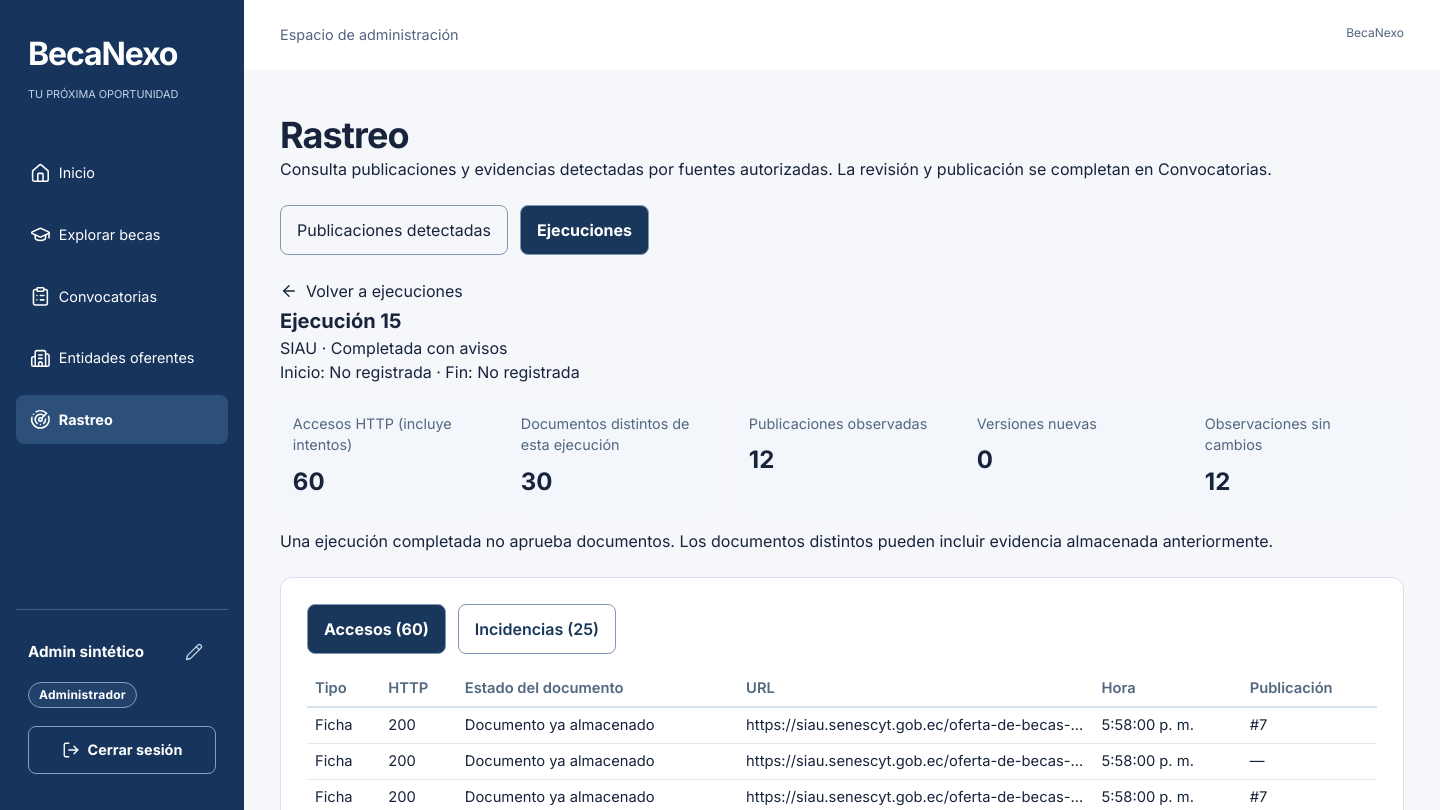
Test: muestra una sola lista a la vez con pestañas y contadores
The width and height of the screenshot is (1440, 810).
Expected: the field labelled "Gravedad" is not shown
What coordinates should you click on to do the following:
click the tab "Incidencias (25)"
I would click on:
 (537, 629)
Its box is left=458, top=604, right=616, bottom=654.
(page scrolled)
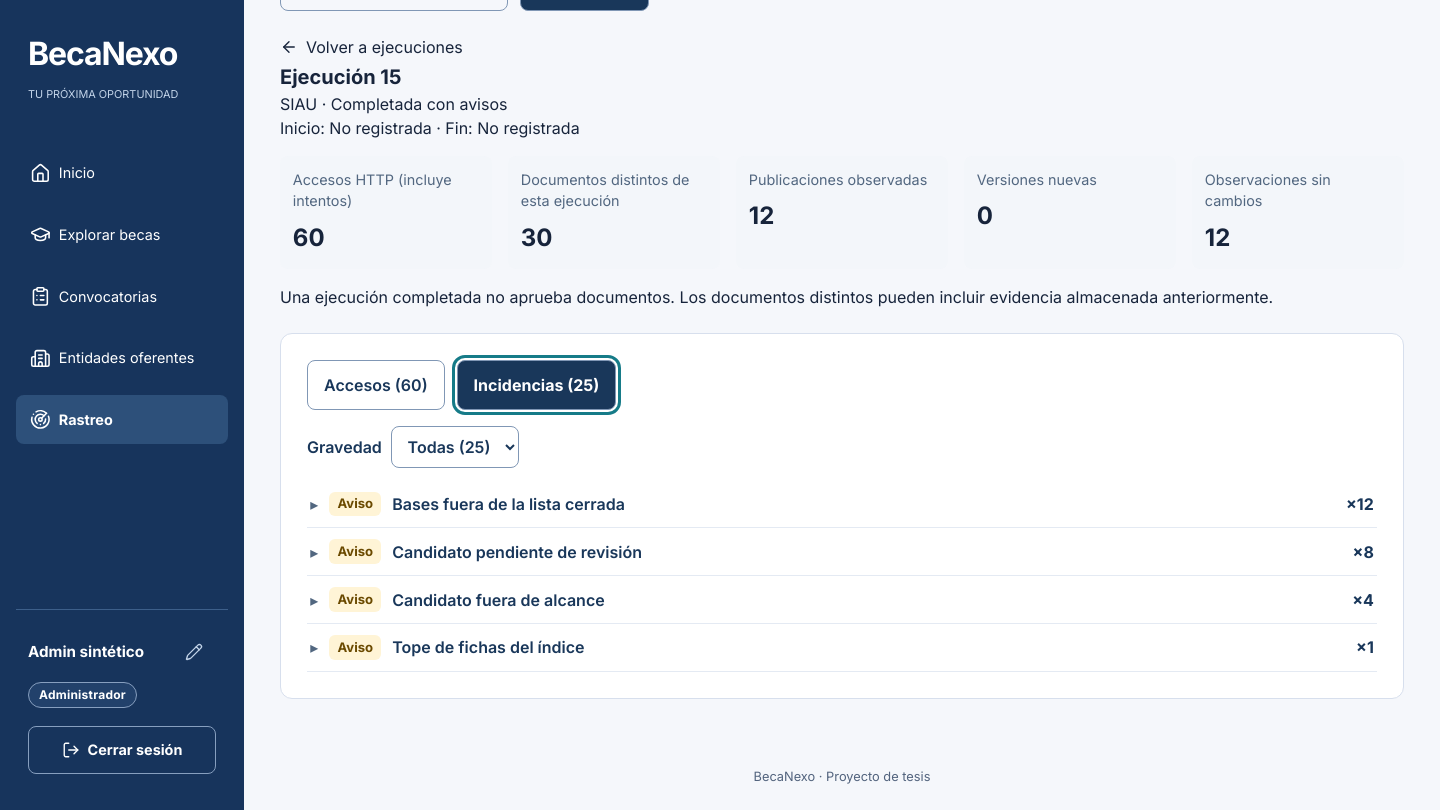
Result: the dropdown labelled "Gravedad" is shown at left=391, top=426, right=519, bottom=468
